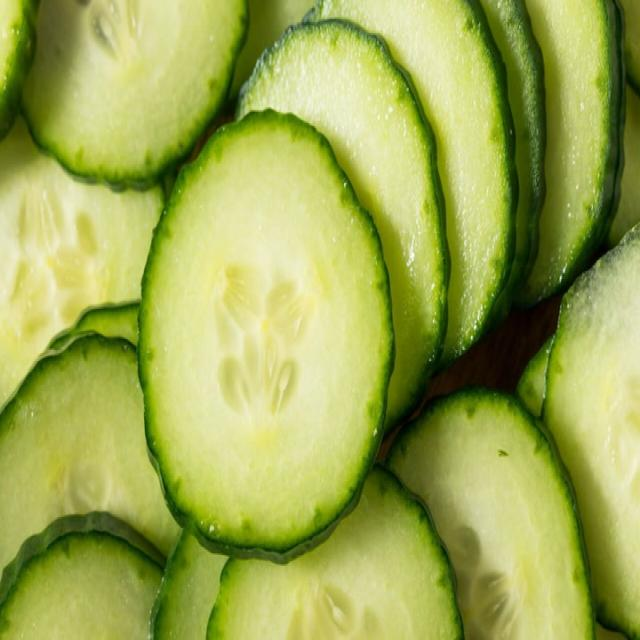Pickle: (139, 111, 394, 553), (238, 20, 449, 428), (308, 0, 518, 367), (388, 388, 594, 638), (0, 117, 164, 405), (208, 466, 462, 638), (0, 335, 179, 573), (21, 0, 248, 187), (542, 224, 640, 637), (515, 0, 625, 307), (481, 0, 546, 327), (0, 512, 165, 638)
